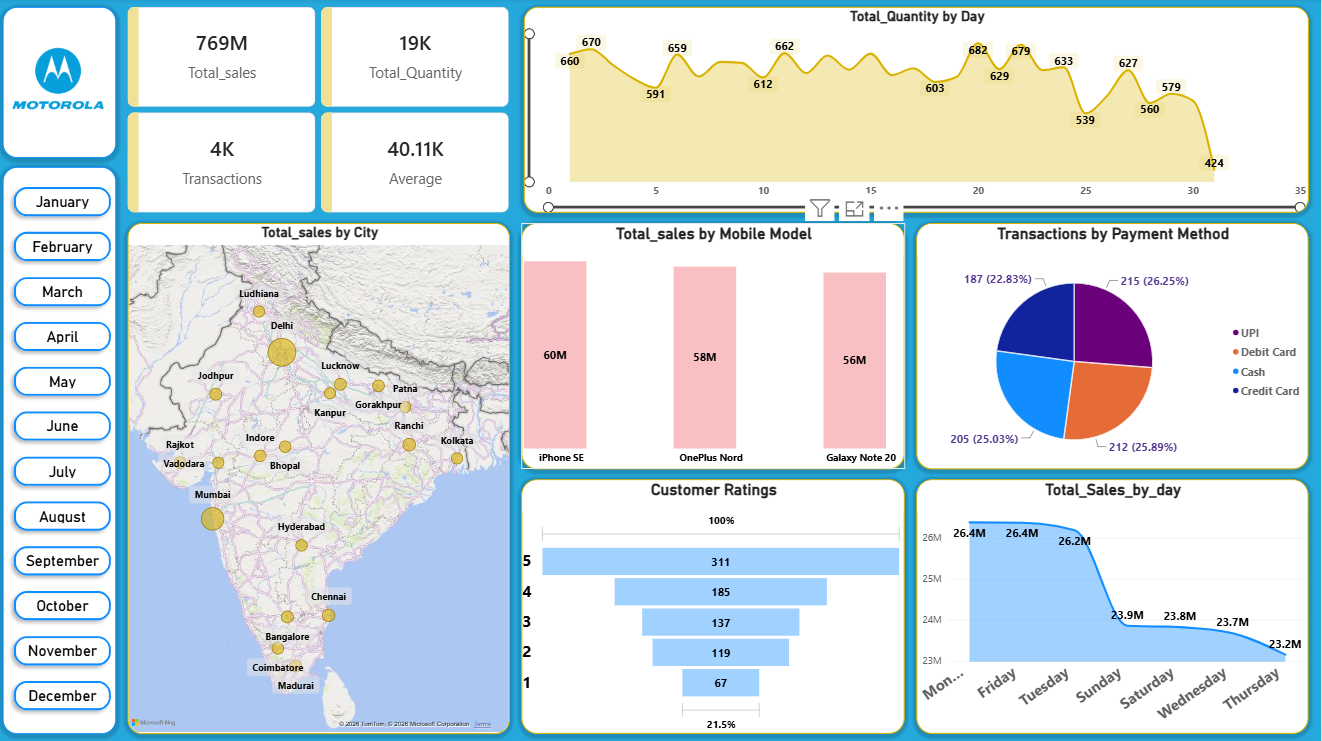

Layout of this report page (visuals, bound fields, positions):
{"tool":"powerbi","page":{"name":"Page 1","canvas":[1920,1080],"ordinal":0},"visuals":[{"type":"shape","box":[10.9,12.7,164.7,219],"z":0},{"type":"shape","box":[10.9,244.3,164.7,821.6],"z":1000},{"type":"image","box":[18.1,23.5,146.6,186.4],"z":2000},{"type":"advancedSlicerVisual","fields":{"Values":["sales_data.Date.Variation.Date Hierarchy.Month"]},"box":[18.1,244.3,159.3,821.6],"z":3000},{"type":"cardVisual","fields":{"Data":["sales_data.Total_sales","sales_data.Total_Qnty","sales_data.Transactions","sales_data.Average"]},"box":[191.8,12.7,553.8,298.6],"z":4000},{"type":"map","fields":{"Category":["sales_data.City"],"Size":["sales_data.Total_sales"]},"box":[191.8,325.7,553.8,740.2],"z":5000},{"type":"lineChart","fields":{"Category":["sales_data.Date.Variation.Date Hierarchy.Month","sales_data.Date.Variation.Date Hierarchy.Day"],"Y":["sales_data.Total_Quantity"]},"box":[765.5,12.7,1136.5,298.6],"z":6000},{"type":"columnChart","fields":{"Category":["sales_data.Mobile Model"],"Y":["sales_data.Total_sales"]},"box":[761.9,325.7,555.6,356.5],"z":7000},{"type":"pieChart","fields":{"Category":["sales_data.Payment Method"],"Y":["sales_data.Transactions"]},"box":[1333.7,325.7,568.2,356.5],"z":8000},{"type":"funnel","title":" Customer Ratings","fields":{"Category":["sales_data.Customer Ratings"],"Y":["CountNonNull(sales_data.Customer Ratings)"]},"box":[761.9,696.7,555.6,369.2],"z":8001},{"type":"areaChart","title":"Total_Sales_by_day","fields":{"Category":["sales_data.Day Name"],"Y":["sales_data.Total_sales"]},"box":[1333.7,696.7,568.2,369.2],"z":8002}]}

Visuals, with their boxes in screenshot pixels (x1, y1, x2, y2), scaled from the page's 1920x1080 canvas onto the 1322x741 screenshot:
shape: BBox(8, 9, 121, 159)
shape: BBox(8, 168, 121, 731)
image: BBox(12, 16, 113, 144)
advancedSlicerVisual - sales_data.Date.Variation.Date Hierarchy.Month: BBox(12, 168, 122, 731)
cardVisual - sales_data.Total_sales x sales_data.Total_Qnty: BBox(132, 9, 513, 214)
map - sales_data.City x sales_data.Total_sales: BBox(132, 223, 513, 731)
lineChart - sales_data.Date.Variation.Date Hierarchy.Month x sales_data.Date.Variation.Date Hierarchy.Day: BBox(527, 9, 1310, 214)
columnChart - sales_data.Mobile Model x sales_data.Total_sales: BBox(525, 223, 907, 468)
pieChart - sales_data.Payment Method x sales_data.Transactions: BBox(918, 223, 1310, 468)
" Customer Ratings" funnel: BBox(525, 478, 907, 731)
"Total_Sales_by_day" areaChart: BBox(918, 478, 1310, 731)
